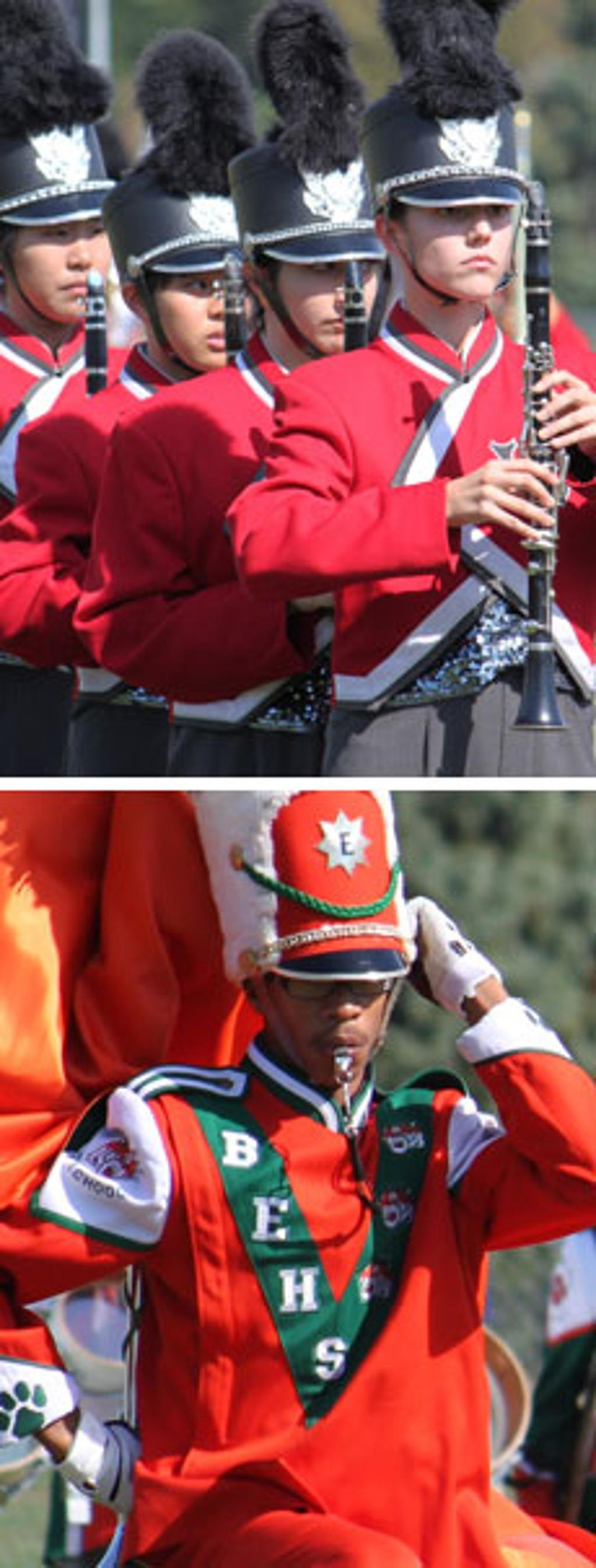human_face: (259, 944, 388, 1088), (144, 229, 266, 373), (400, 174, 519, 296), (6, 183, 110, 321), (272, 226, 382, 345)
